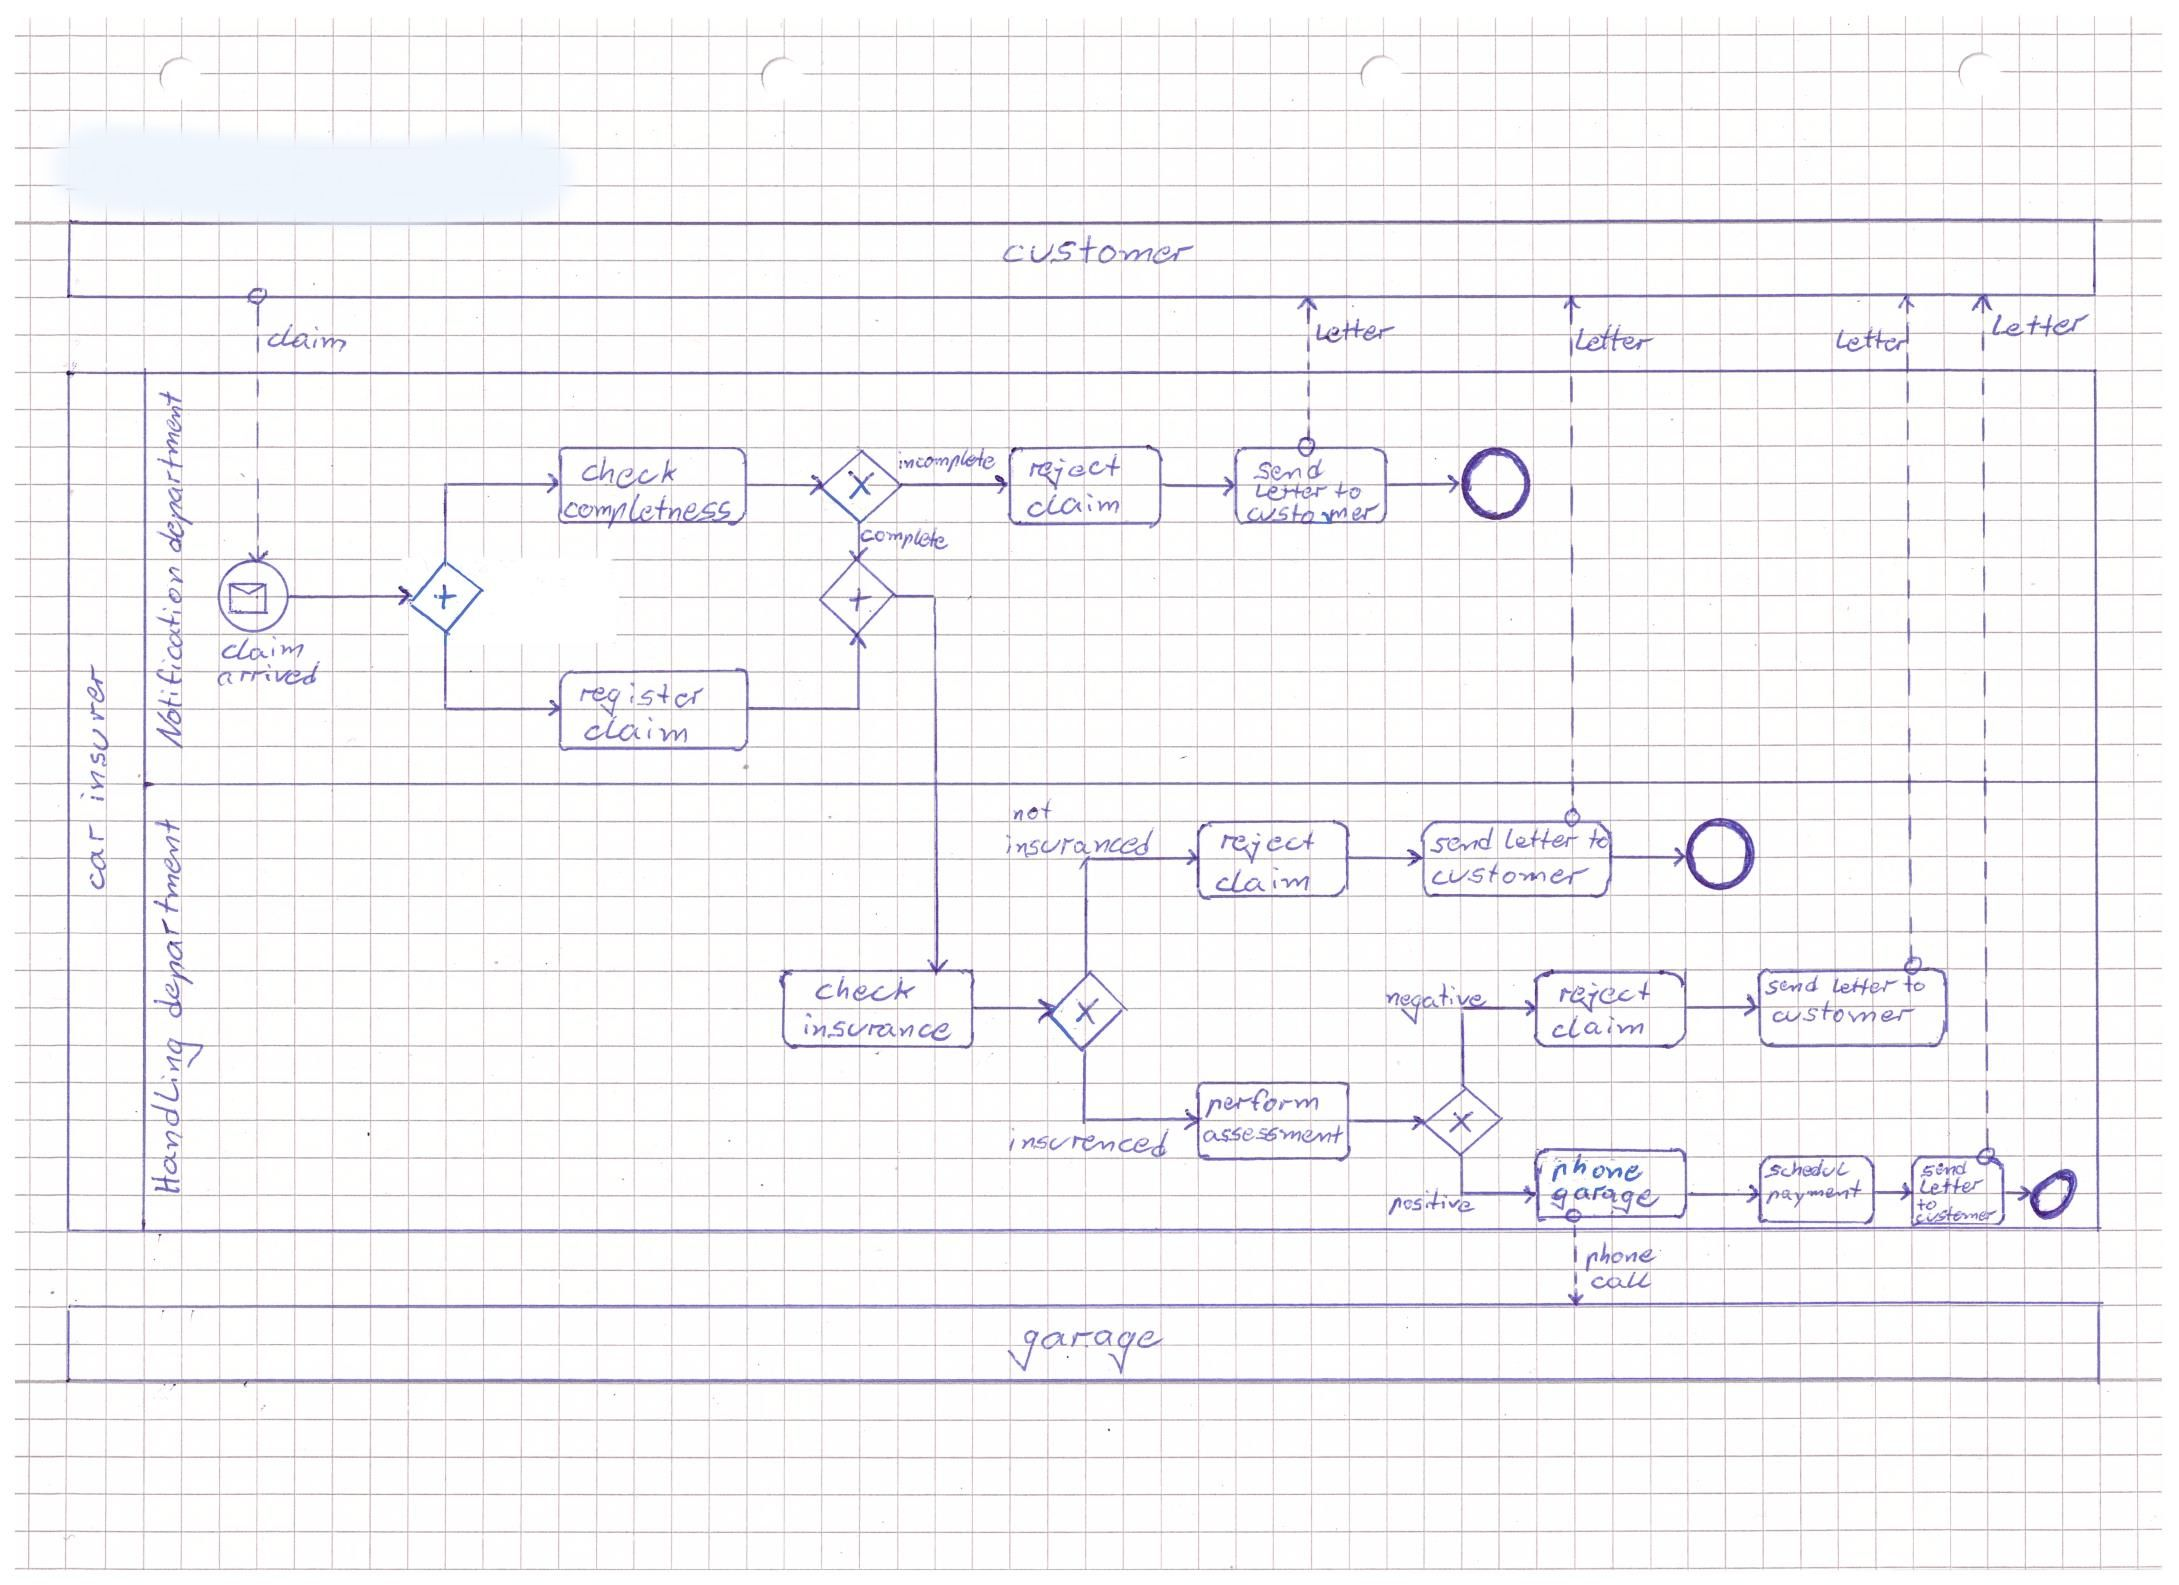Handling: (144, 1032, 211, 1201)
Letter: (1984, 306, 2098, 343), (1567, 320, 1661, 359), (1309, 313, 1401, 350), (1830, 321, 1917, 359), (1250, 479, 1333, 506), (1913, 1172, 1991, 1201)
Notification: (147, 560, 189, 758)
arrived: (211, 655, 327, 692)
assessment: (1199, 1122, 1347, 1150)
call: (1585, 1265, 1658, 1296)
car: (78, 817, 115, 898)
check: (575, 452, 683, 496), (807, 969, 924, 1008)
claim: (577, 710, 694, 749), (1210, 863, 1315, 898), (1020, 487, 1125, 523), (262, 320, 352, 359), (1546, 1012, 1651, 1044), (213, 631, 311, 665)
complete: (856, 524, 954, 555)
completness: (558, 491, 739, 535)
customer: (995, 228, 1201, 271), (1426, 856, 1595, 891), (1765, 995, 1922, 1028), (1242, 497, 1384, 528), (1912, 1203, 2000, 1230)
department: (147, 812, 201, 1028), (152, 386, 200, 557)
garage: (1000, 1323, 1172, 1380), (1546, 1181, 1665, 1221)
incomplete: (892, 443, 1002, 475)
insurance: (797, 1006, 959, 1045)
insuranced: (996, 824, 1161, 864)
insurenced: (1002, 1122, 1179, 1165)
insurer: (74, 658, 113, 809)
letter: (1501, 820, 1585, 854), (1827, 971, 1903, 1001)
negative: (1380, 978, 1494, 1030)
not: (1008, 793, 1061, 827)
payment: (1761, 1174, 1868, 1215)
perform: (1199, 1083, 1325, 1123)
phone: (1546, 1149, 1649, 1189), (1578, 1238, 1660, 1279)
positive: (1382, 1184, 1482, 1221)
register: (572, 677, 711, 722)
reject: (1024, 450, 1127, 496), (1215, 825, 1321, 869), (1551, 978, 1656, 1018)
schedul: (1758, 1155, 1854, 1182)
send: (1249, 453, 1331, 487), (1424, 822, 1499, 859), (1759, 969, 1825, 1001), (1915, 1157, 1971, 1182)
to: (1898, 968, 1935, 996), (1583, 824, 1617, 854), (1330, 479, 1365, 504), (1913, 1196, 1946, 1215)
